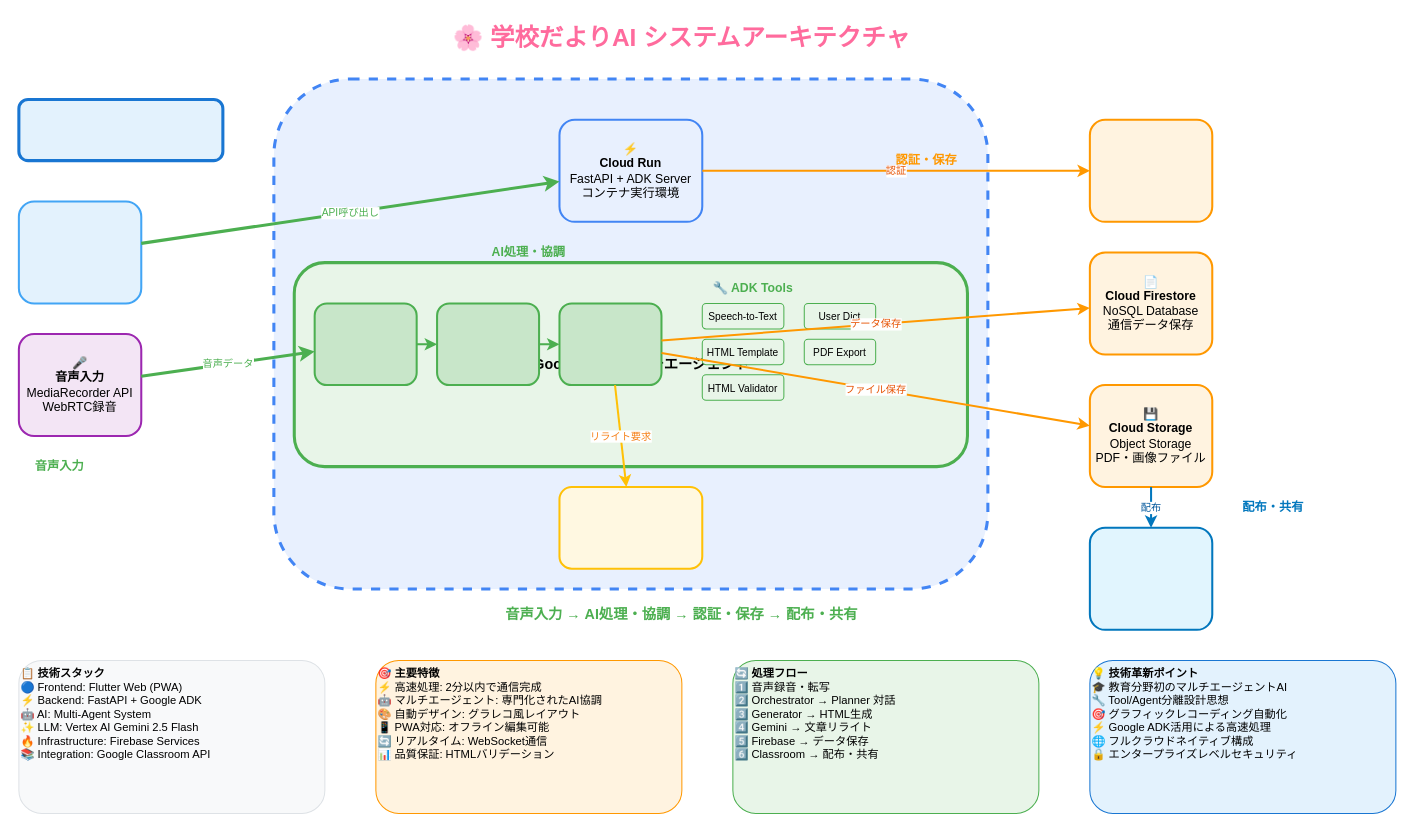
Some shapes in this 1414 by 831 pixel diagram are drawn without their labels. Here are the shapes that lost their labels. From the top down, the centre of each, then its label:
[120,129]: 教師・ユーザー
[1150,170]: 🔐 Firebase Authentication ユーザー管理
[79,252]: 📱 Flutter Web PWA対応 教師用UI
[365,344]: 🎯 Orchestrator Agent ワークフロー制御
[488,344]: 💭 Planner Agent 対話・計画立案
[610,344]: 📝 Generator Agent HTML通信生成
[630,527]: ✨ Vertex AI Gemini 2.5 Flash 文章リライト・整形
[1150,578]: 📚 Google Classroom 通信配布 保護者・生徒配信
